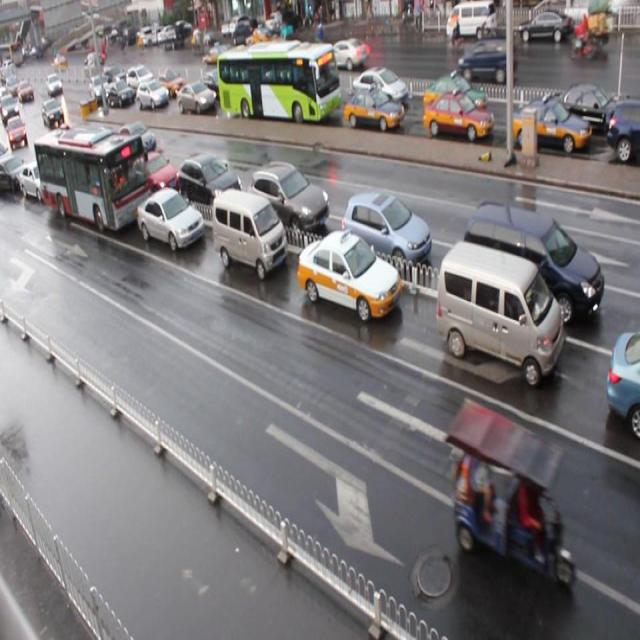car: (298, 228, 402, 322), (342, 192, 432, 276), (250, 161, 330, 234), (512, 98, 592, 156), (542, 84, 626, 139), (137, 186, 205, 251), (178, 151, 244, 213), (605, 329, 640, 434), (424, 92, 494, 140), (344, 84, 404, 133), (427, 74, 490, 118), (352, 68, 408, 107), (137, 146, 181, 195), (606, 97, 640, 159), (21, 157, 58, 202), (84, 132, 122, 171), (282, 67, 323, 102), (177, 81, 216, 115), (116, 124, 156, 155), (1, 152, 30, 194), (137, 80, 168, 110), (203, 70, 228, 98), (107, 81, 132, 107), (160, 71, 183, 97), (126, 65, 152, 88)
truck: (437, 240, 562, 388), (464, 198, 604, 328), (212, 187, 288, 278)
van: (35, 126, 154, 234), (216, 44, 340, 123)
